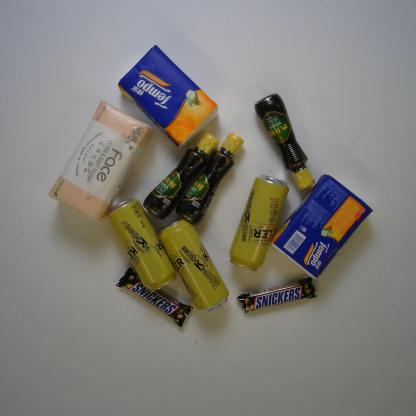Alcohol: (157, 217, 231, 315), (105, 196, 178, 294), (228, 172, 290, 272)
Chocolate: (113, 265, 194, 329), (235, 275, 319, 316)
Seasoner: (142, 131, 220, 220), (174, 131, 246, 226), (254, 90, 317, 192)
Tissue: (44, 97, 156, 224), (115, 42, 221, 152), (270, 172, 374, 281)
